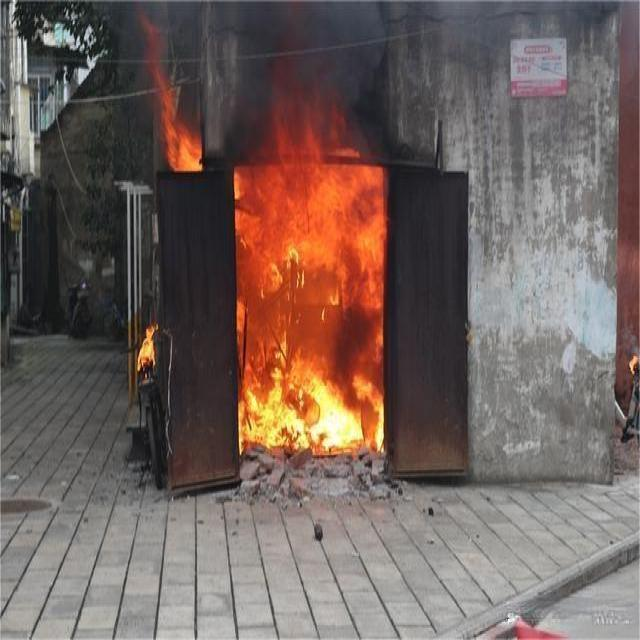fire: (237, 131, 388, 457), (135, 18, 209, 170)
